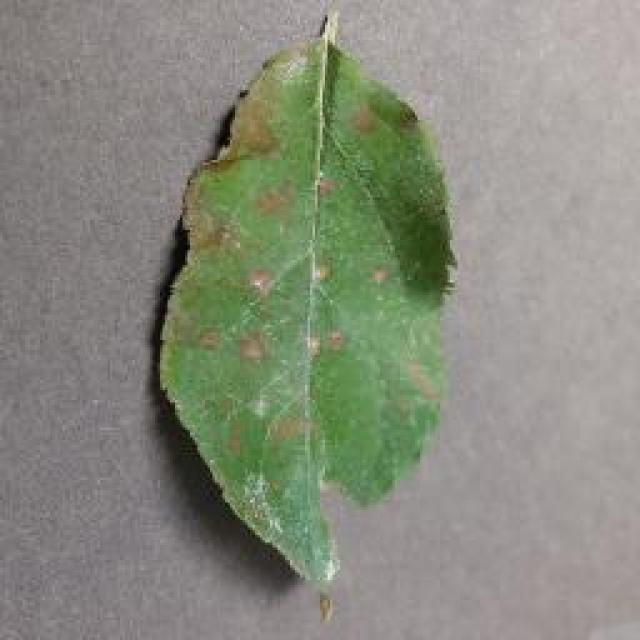apple cedar apple rust: (155, 7, 457, 615)
